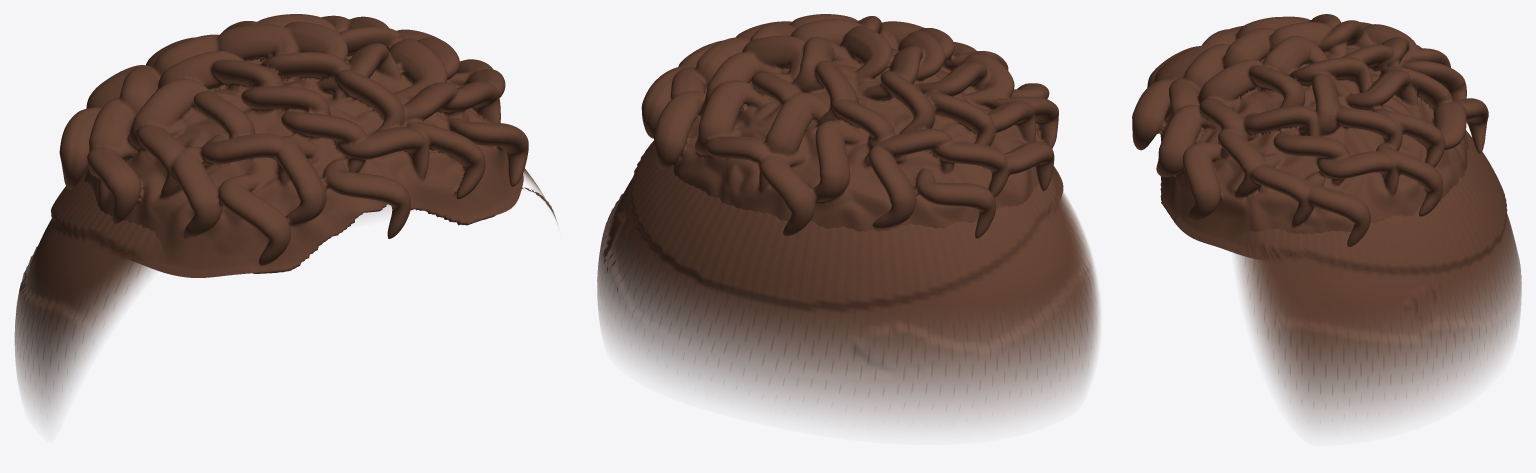
File: Masculine-curly-top-headband257-hair.glb
3 views of the same model, side by side, from view 1: azimuth 30°, elevation 25°; view 2: azimuth 150°, elevation 25°; view 3: azimuth 270°, elevation 25° (orthographic). The views are drawn at different scales.
Visible parts, largest first — view 1: 226 hair / Hair252 / sculpted curl groups, 226 hair / Hair257 / smooth side fade, 226 hair / Hair257 / directional fade marks; view 2: 226 hair / Hair257 / smooth side fade, 226 hair / Hair252 / sculpted curl groups, 226 hair / Hair257 / directional fade marks; view 3: 226 hair / Hair252 / sculpted curl groups, 226 hair / Hair257 / smooth side fade, 226 hair / Hair257 / directional fade marks.
Part boxes in pixels (x1,y1,x2,y2): 226 hair / Hair252 / sculpted curl groups: (59,14,528,277); 226 hair / Hair257 / smooth side fade: (15,166,557,419); 226 hair / Hair257 / directional fade marks: (16,170,153,370); 226 hair / Hair257 / smooth side fade: (597,141,1099,424); 226 hair / Hair252 / sculpted curl groups: (641,14,1063,238); 226 hair / Hair257 / directional fade marks: (602,141,1091,393); 226 hair / Hair252 / sculpted curl groups: (1132,14,1488,258); 226 hair / Hair257 / smooth side fade: (1234,130,1521,426); 226 hair / Hair257 / directional fade marks: (1244,130,1507,393).
Bounding box in the file's own units: 0.9723 × 0.665 × 0.7499.
